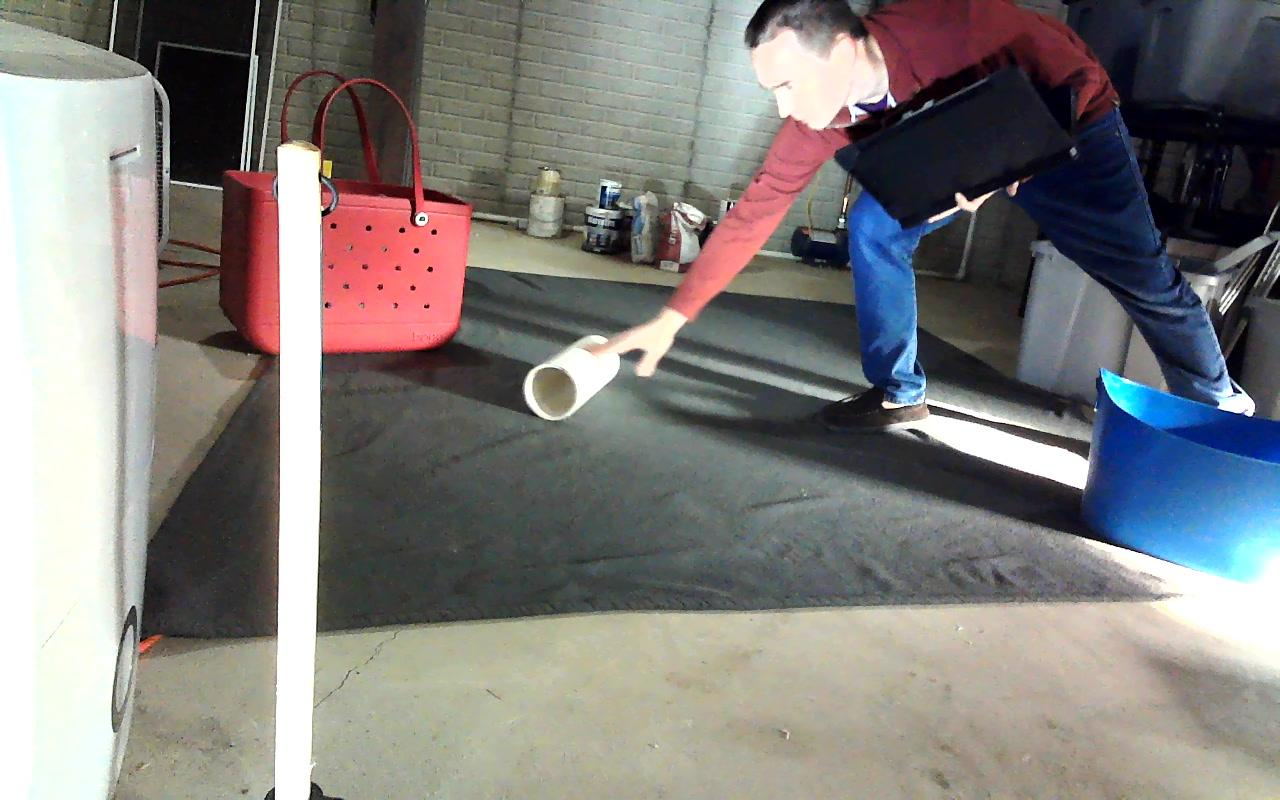coral: (525, 335, 620, 419)
